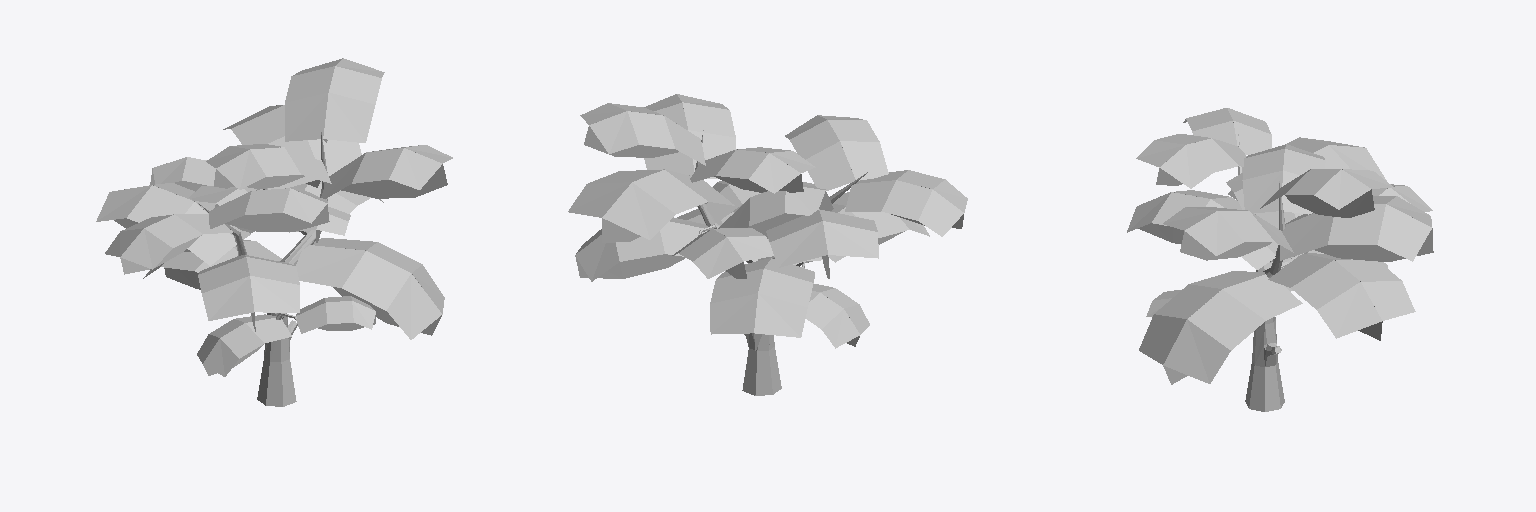
File: tree4.obj
3 renders of one model, left to right at view 1: azimuth 30°, elevation 25°; view 2: azimuth 150°, elevation 25°; view 3: azimuth 270°, elevation 25°, orthographic.
Parts seen in each view (by area): view 1: pasted__treeWide_null_ group24; view 2: pasted__treeWide_null_ group24; view 3: pasted__treeWide_null_ group24.
Part boxes in pixels (left/top/right/bottom): pasted__treeWide_null_ group24: left=96, top=58, right=452, bottom=406; pasted__treeWide_null_ group24: left=568, top=94, right=967, bottom=395; pasted__treeWide_null_ group24: left=1127, top=108, right=1433, bottom=411.
Size of the model in its own units: 53.4 by 43.24 by 42.76.